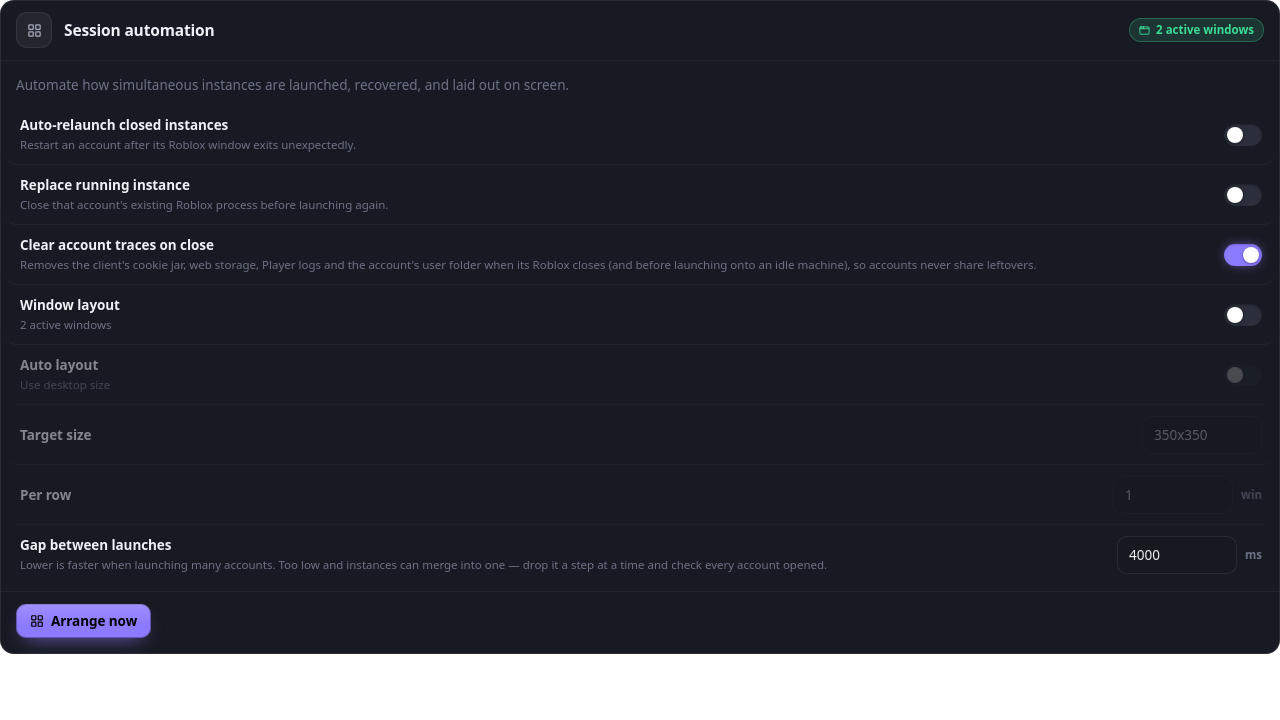
Settings session automation card › clamps a spawn gap below the safe floor instead of persisting it
Replace the text in the number field named "Milliseconds between successive account launches" with "10" at (1177, 555), box left=1117, top=536, right=1237, bottom=574
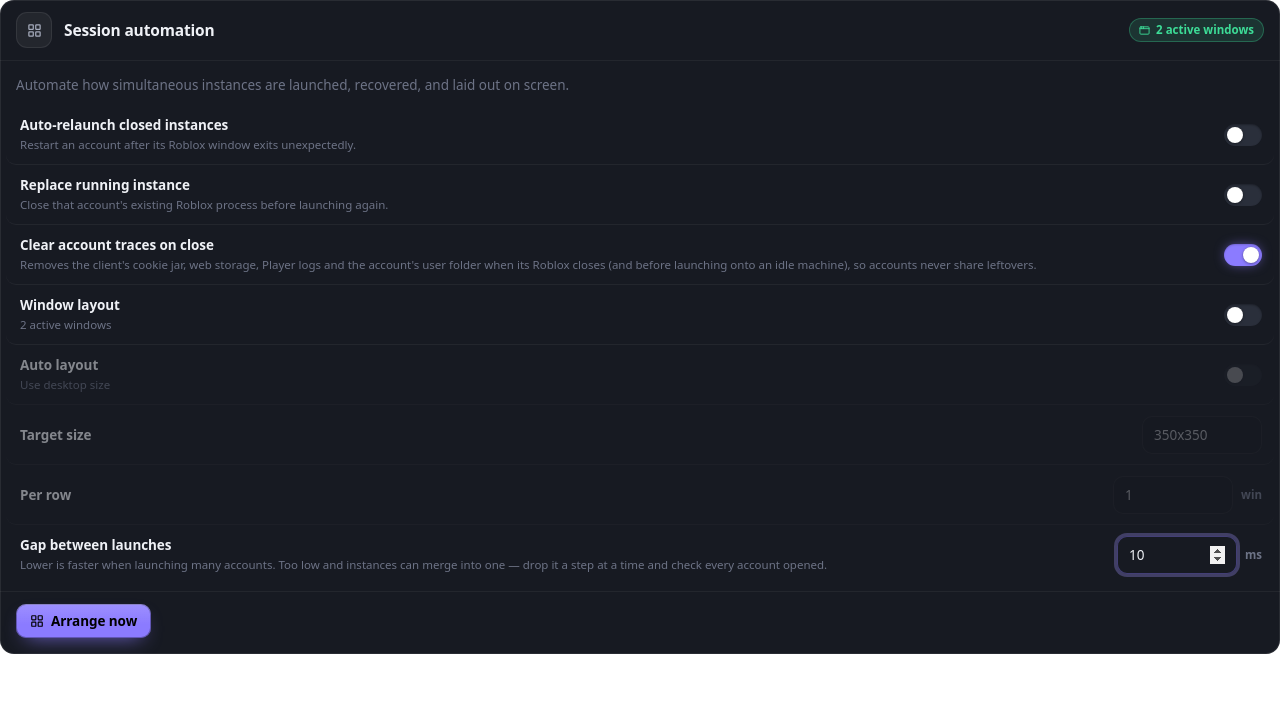
Press Tab
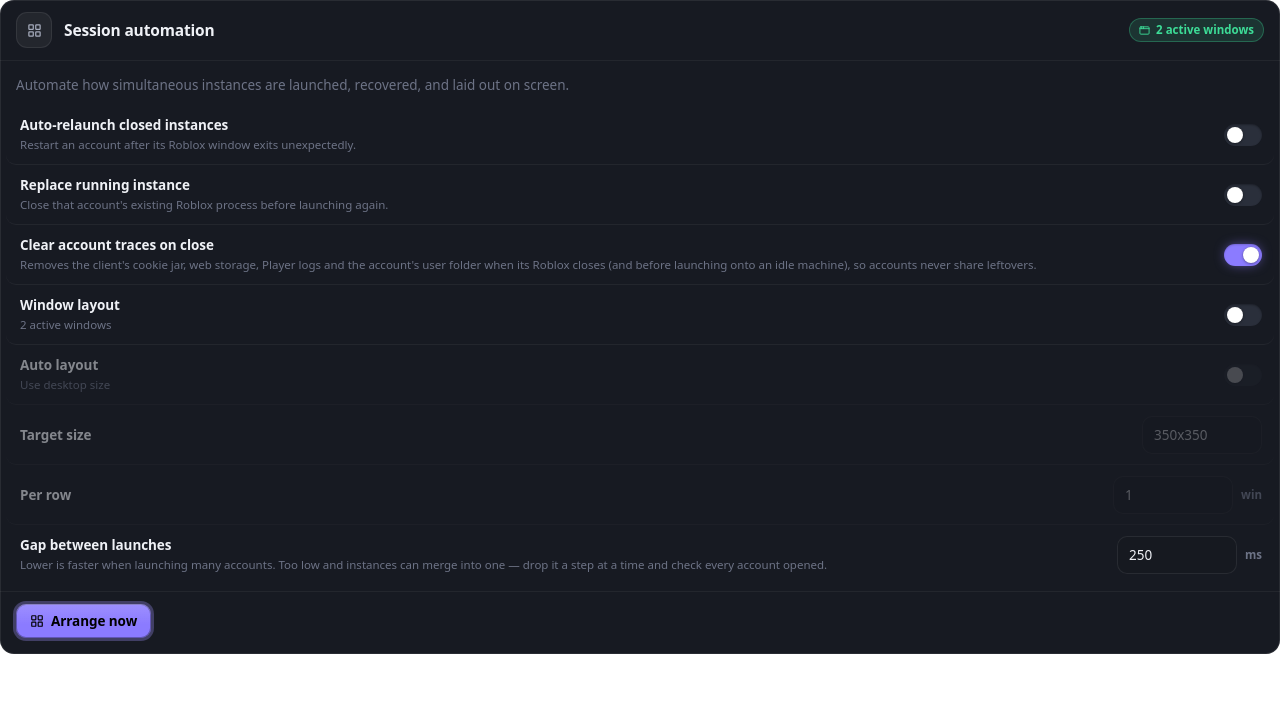
expect the number field named "Milliseconds between successive account launches" holds "250": met, box left=1117, top=536, right=1237, bottom=574
